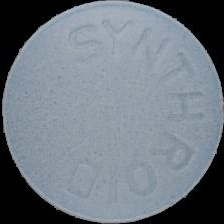66336-591: (0, 0, 224, 224)
